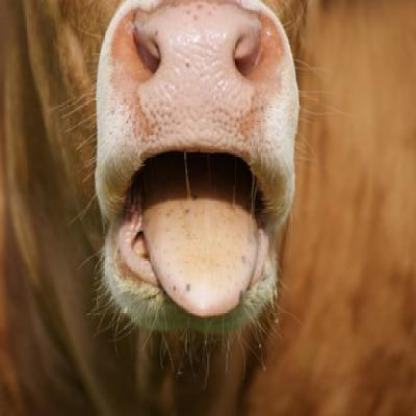lower: (148, 298, 167, 316)
mouth: (94, 2, 300, 339)
upper: (182, 32, 212, 80)
